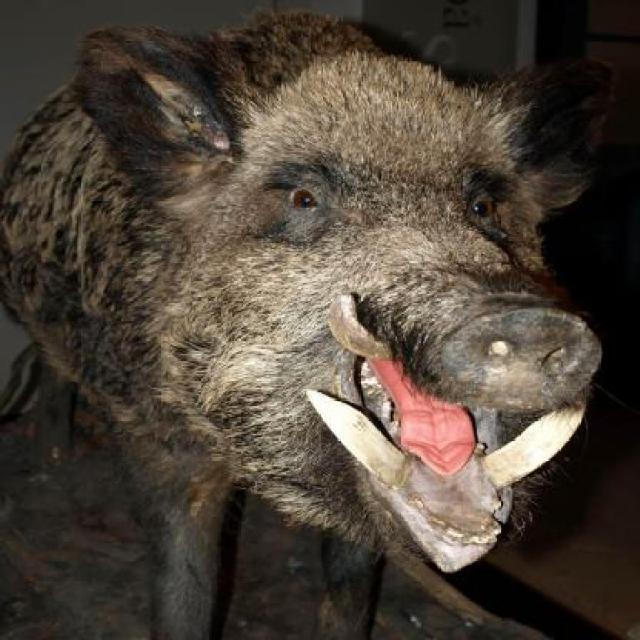wildboar: (0, 11, 609, 638)
